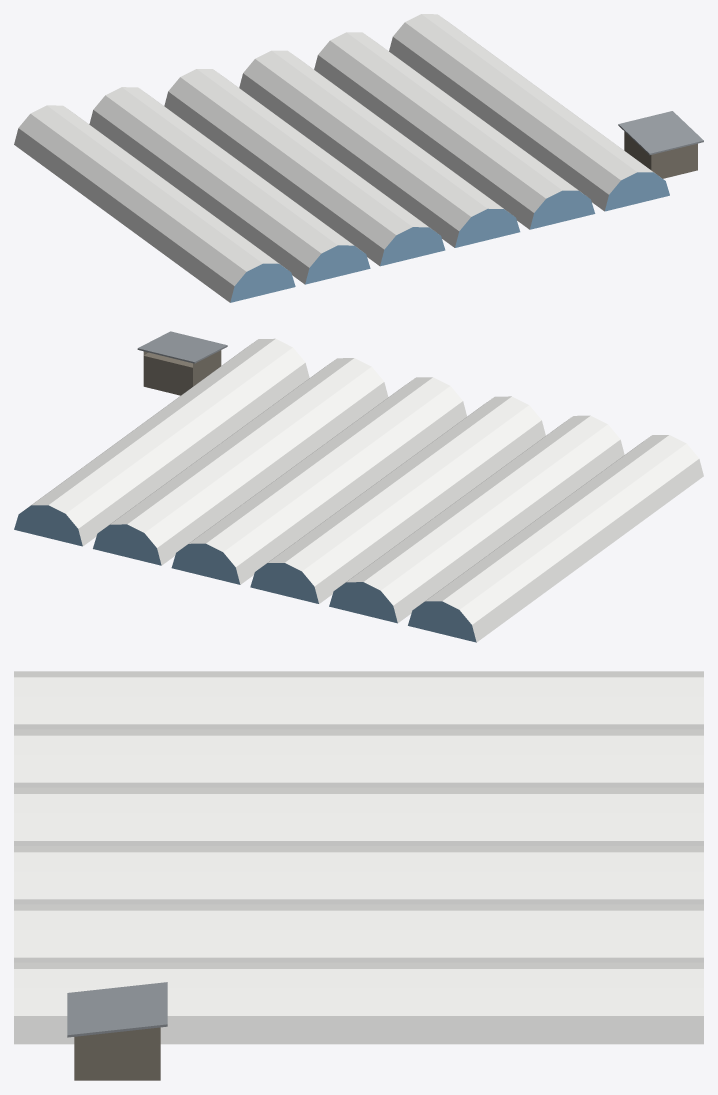
The model's file is serres_tunnels.glb.
3 views of the same model, one above another, from view 1: azimuth 30°, elevation 25°; view 2: azimuth 150°, elevation 25°; view 3: azimuth 270°, elevation 25° (orthographic). The views are drawn at different scales.
Visible parts, largest first — view 1: serres_tunnels; view 2: serres_tunnels; view 3: serres_tunnels.
Boxes of the visible parts, x1=… form: serres_tunnels: x1=14, y1=14, x2=703, y2=302; serres_tunnels: x1=14, y1=331, x2=703, y2=642; serres_tunnels: x1=14, y1=671, x2=703, y2=1080.
Size of the model in its own units: 52.4 by 3.8 by 40.
1 material, 1 textured.
